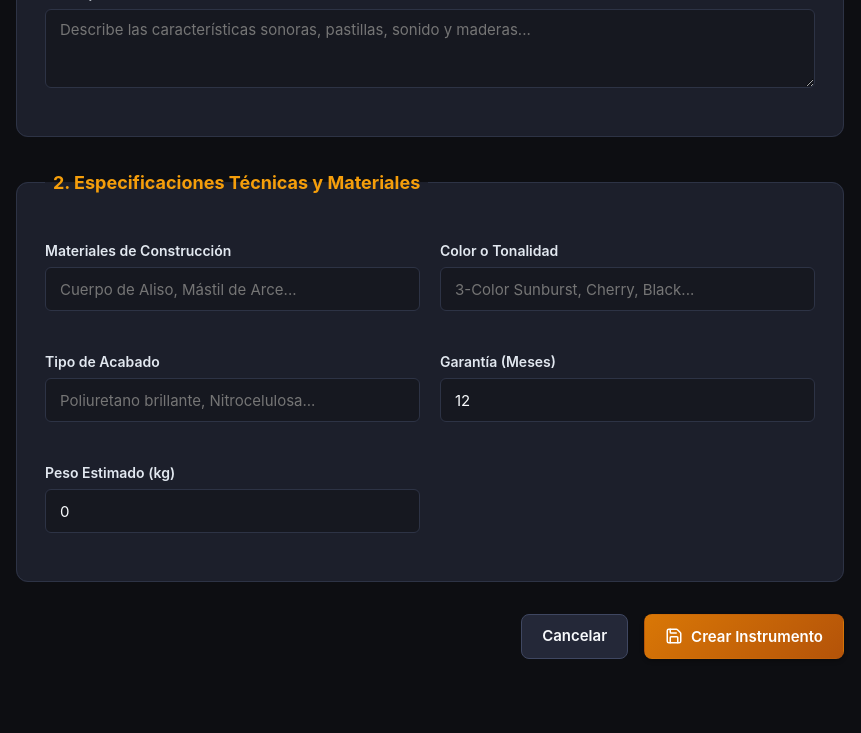
Test: Operaciones CRUD - Creación de Instrumento con API Simulada › muestra errores de validación si se intenta enviar el formulario vacío
(page scrolled)
Click the button "Crear Instrumento" at (744, 636), box [644,614,844,658]
(page scrolled)
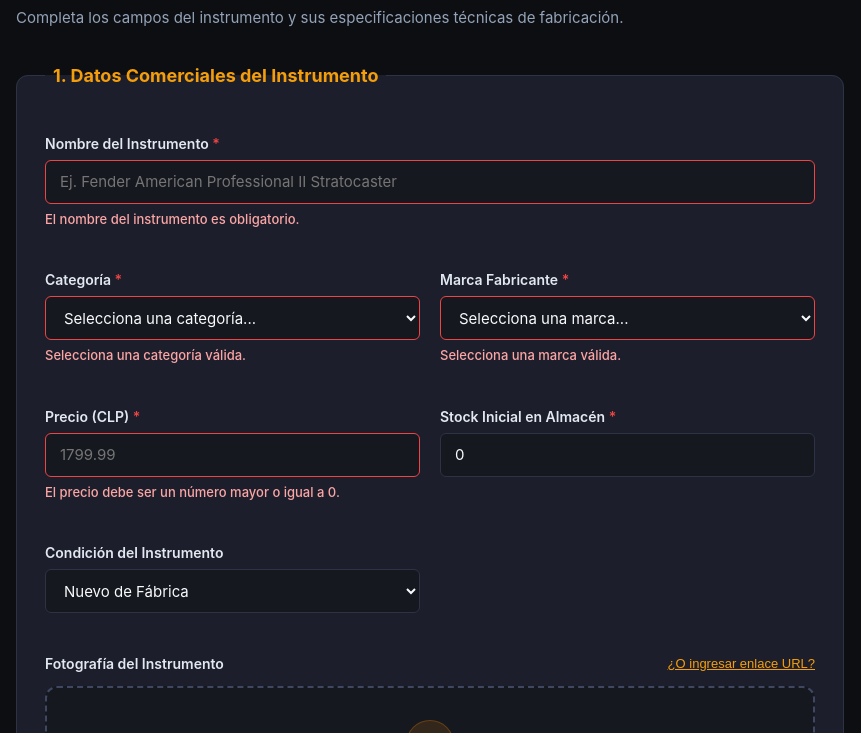
Check: the text "El nombre del instrumento es obligatorio." is shown, box [45,210,300,226]
Check: the text "Selecciona una categoría válida." is shown, box [45,347,246,363]
